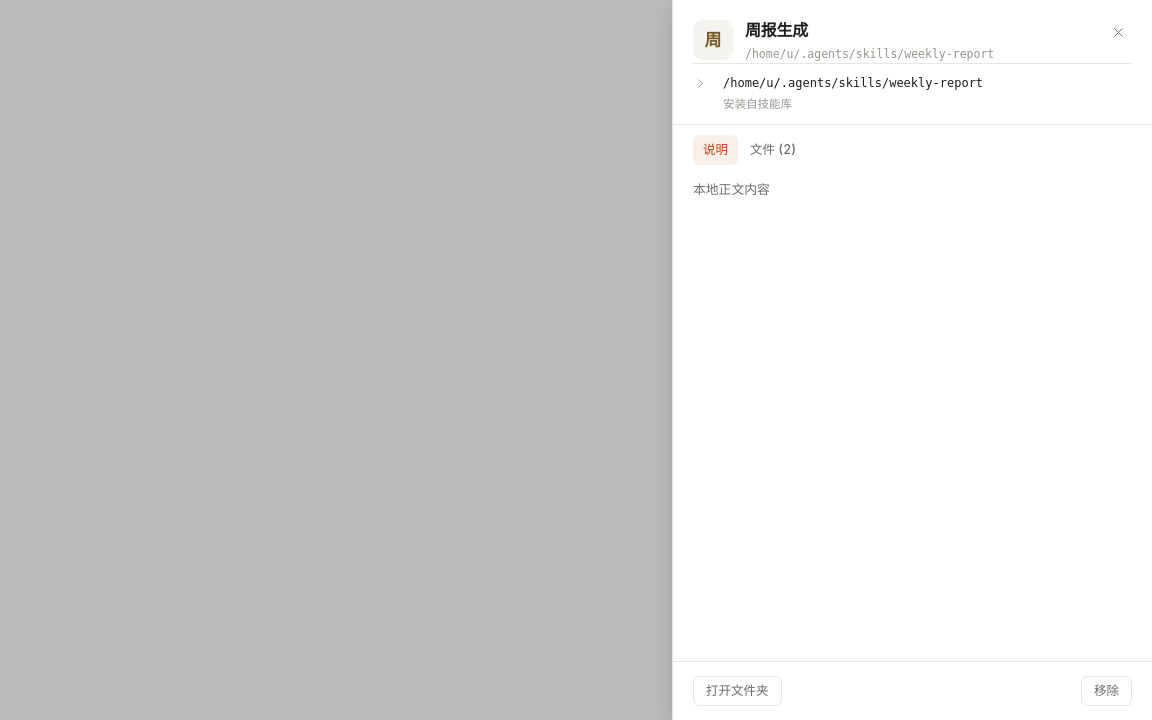
Test case: DetailPanel(本地详情模式) › 能打开一个不在商店索引里的技能,且详情面板显示「在哪」三块(v7 任务 6 DoD)
Click the button with test id "where-toggle": (853, 83) [693,63,1132,124]
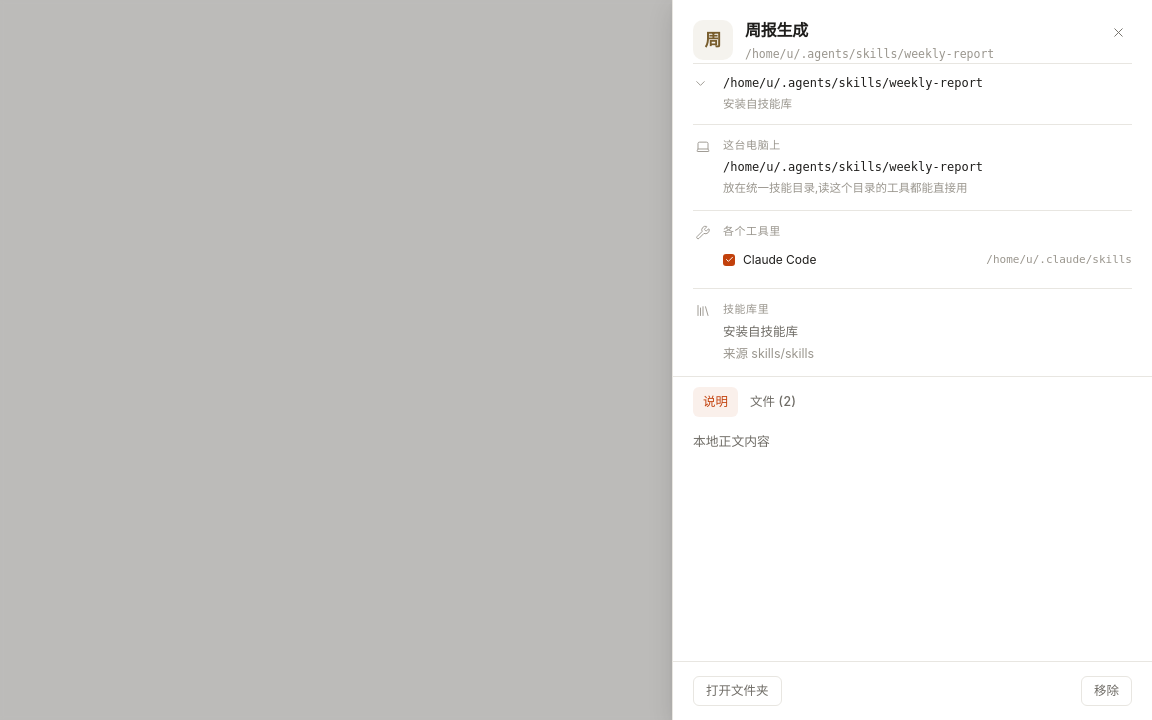
Expected: the elements with test id "where-title" read "这台电脑上", "各个工具里", "技能库里", in this order, [723,138,781,152]; [723,224,781,238]; [723,302,769,316]
Expected: the text "放在统一技能目录,读这个目录的工具都能直接用" is shown, [723,179,968,198]
